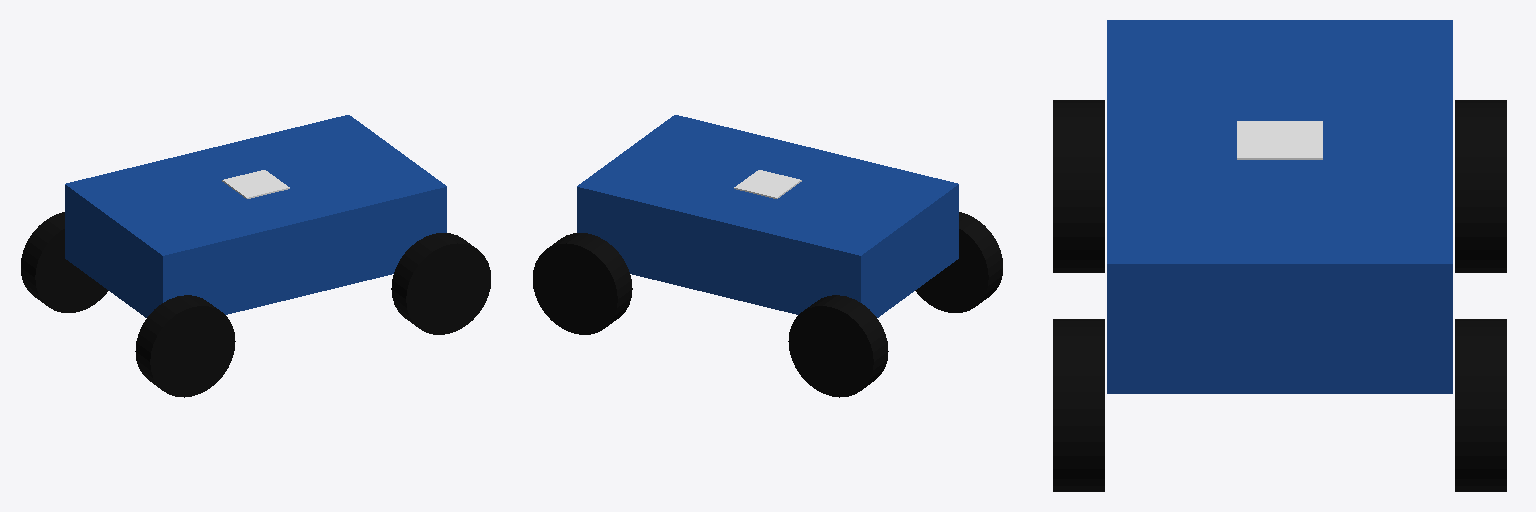
URDF robot description (ackermann_bot):
<?xml version="1.0"?>
<robot name="ackermann_bot">

  <!-- Base footprint at ground level -->
  <link name="base_footprint"/>

  <joint name="base_footprint_joint" type="fixed">
    <parent link="base_footprint"/>
    <child link="base_link"/>
    <origin xyz="0 0 0.32" rpy="0 0 0"/>
  </joint>

  <!-- Chassis Base Link -->
  <link name="base_link">
    <inertial>
      <origin xyz="0 0 0" rpy="0 0 0"/>
      <mass value="20.0"/>
      <inertia ixx="0.5208" ixy="0.0" ixz="0.0"
               iyy="1.7708" iyz="0.0"
               izz="2.0833"/>
    </inertial>
    <visual>
      <origin xyz="0 0 0" rpy="0 0 0"/>
      <geometry>
        <box size="1.0 0.6 0.25"/>
      </geometry>
      <material name="chassis_blue">
        <color rgba="0.15 0.35 0.65 1.0"/>
      </material>
    </visual>
    <collision>
      <origin xyz="0 0 0" rpy="0 0 0"/>
      <geometry>
        <box size="1.0 0.6 0.25"/>
      </geometry>
    </collision>
  </link>

  <!-- Wheels Materials -->
  <material name="wheel_dark_grey">
    <color rgba="0.1 0.1 0.1 1.0"/>
  </material>

  <material name="marker_white">
    <color rgba="0.95 0.95 0.95 1.0"/>
  </material>

  <!-- Front Left Wheel -->
  <link name="front_left_wheel">
    <inertial>
      <origin xyz="0 0 0" rpy="0 0 0"/>
      <mass value="1.5"/>
      <inertia ixx="0.00945" ixy="0.0" ixz="0.0"
               iyy="0.0169" iyz="0.0"
               izz="0.00945"/>
    </inertial>
    <visual>
      <origin xyz="0 0 0" rpy="1.57079632679 0 0"/>
      <geometry>
        <cylinder radius="0.15" length="0.09"/>
      </geometry>
      <material name="wheel_dark_grey"/>
    </visual>
    <collision>
      <origin xyz="0 0 0" rpy="1.57079632679 0 0"/>
      <geometry>
        <cylinder radius="0.15" length="0.09"/>
      </geometry>
    </collision>
  </link>

  <joint name="front_left_wheel_joint" type="continuous">
    <parent link="base_link"/>
    <child link="front_left_wheel"/>
    <origin xyz="0.45 0.35 -0.17" rpy="0 0 0"/>
    <axis xyz="0 1 0"/>
    <dynamics damping="0.1" friction="0.0"/>
  </joint>

  <!-- Front Right Wheel -->
  <link name="front_right_wheel">
    <inertial>
      <origin xyz="0 0 0" rpy="0 0 0"/>
      <mass value="1.5"/>
      <inertia ixx="0.00945" ixy="0.0" ixz="0.0"
               iyy="0.0169" iyz="0.0"
               izz="0.00945"/>
    </inertial>
    <visual>
      <origin xyz="0 0 0" rpy="1.57079632679 0 0"/>
      <geometry>
        <cylinder radius="0.15" length="0.09"/>
      </geometry>
      <material name="wheel_dark_grey"/>
    </visual>
    <collision>
      <origin xyz="0 0 0" rpy="1.57079632679 0 0"/>
      <geometry>
        <cylinder radius="0.15" length="0.09"/>
      </geometry>
    </collision>
  </link>

  <joint name="front_right_wheel_joint" type="continuous">
    <parent link="base_link"/>
    <child link="front_right_wheel"/>
    <origin xyz="0.45 -0.35 -0.17" rpy="0 0 0"/>
    <axis xyz="0 1 0"/>
    <dynamics damping="0.1" friction="0.0"/>
  </joint>

  <!-- Rear Left Wheel -->
  <link name="rear_left_wheel">
    <inertial>
      <origin xyz="0 0 0" rpy="0 0 0"/>
      <mass value="1.5"/>
      <inertia ixx="0.00945" ixy="0.0" ixz="0.0"
               iyy="0.0169" iyz="0.0"
               izz="0.00945"/>
    </inertial>
    <visual>
      <origin xyz="0 0 0" rpy="1.57079632679 0 0"/>
      <geometry>
        <cylinder radius="0.15" length="0.09"/>
      </geometry>
      <material name="wheel_dark_grey"/>
    </visual>
    <collision>
      <origin xyz="0 0 0" rpy="1.57079632679 0 0"/>
      <geometry>
        <cylinder radius="0.15" length="0.09"/>
      </geometry>
    </collision>
  </link>

  <joint name="rear_left_wheel_joint" type="continuous">
    <parent link="base_link"/>
    <child link="rear_left_wheel"/>
    <origin xyz="-0.45 0.35 -0.17" rpy="0 0 0"/>
    <axis xyz="0 1 0"/>
    <dynamics damping="0.1" friction="0.0"/>
  </joint>

  <!-- Rear Right Wheel -->
  <link name="rear_right_wheel">
    <inertial>
      <origin xyz="0 0 0" rpy="0 0 0"/>
      <mass value="1.5"/>
      <inertia ixx="0.00945" ixy="0.0" ixz="0.0"
               iyy="0.0169" iyz="0.0"
               izz="0.00945"/>
    </inertial>
    <visual>
      <origin xyz="0 0 0" rpy="1.57079632679 0 0"/>
      <geometry>
        <cylinder radius="0.15" length="0.09"/>
      </geometry>
      <material name="wheel_dark_grey"/>
    </visual>
    <collision>
      <origin xyz="0 0 0" rpy="1.57079632679 0 0"/>
      <geometry>
        <cylinder radius="0.15" length="0.09"/>
      </geometry>
    </collision>
  </link>

  <joint name="rear_right_wheel_joint" type="continuous">
    <parent link="base_link"/>
    <child link="rear_right_wheel"/>
    <origin xyz="-0.45 -0.35 -0.17" rpy="0 0 0"/>
    <axis xyz="0 1 0"/>
    <dynamics damping="0.1" friction="0.0"/>
  </joint>

  <!-- ArUco Marker Plate on Roof (DICT_4X4_50, ID 0) -->
  <link name="aruco_marker_link">
    <inertial>
      <origin xyz="0 0 0" rpy="0 0 0"/>
      <mass value="0.05"/>
      <inertia ixx="0.0001" ixy="0.0" ixz="0.0"
               iyy="0.0001" iyz="0.0"
               izz="0.0001"/>
    </inertial>
    <visual>
      <origin xyz="0 0 0" rpy="0 0 0"/>
      <geometry>
        <box size="0.15 0.15 0.005"/>
      </geometry>
      <material name="marker_white"/>
    </visual>
    <collision>
      <origin xyz="0 0 0" rpy="0 0 0"/>
      <geometry>
        <box size="0.15 0.15 0.005"/>
      </geometry>
    </collision>
  </link>

  <joint name="aruco_marker_joint" type="fixed">
    <parent link="base_link"/>
    <child link="aruco_marker_link"/>
    <origin xyz="0 0 0.1275" rpy="0 0 0"/>
  </joint>

</robot>

--- Facts derived from the render (not from the file) ---
The picture shows the robot from 3 angles, left to right: view 1: azimuth 30°, elevation 25°; view 2: azimuth 150°, elevation 25°; view 3: azimuth 270°, elevation 25°; orthographic projection.
Model ackermann_bot with 7 links and 6 joints (4 continuous, 2 fixed), rooted at base_footprint, posed every joint at zero.
Visible links, largest first — view 1: base_link, front_right_wheel, rear_right_wheel, rear_left_wheel, aruco_marker_link; view 2: base_link, front_left_wheel, rear_left_wheel, rear_right_wheel, aruco_marker_link; view 3: base_link, front_left_wheel, front_right_wheel, rear_left_wheel, rear_right_wheel, aruco_marker_link.
Boxes of the visible links, x1=… form: base_link: x1=65, y1=115, x2=446, y2=317; front_right_wheel: x1=391, y1=233, x2=490, y2=334; rear_right_wheel: x1=135, y1=295, x2=235, y2=397; rear_left_wheel: x1=21, y1=212, x2=108, y2=312; aruco_marker_link: x1=222, y1=170, x2=289, y2=198; base_link: x1=577, y1=115, x2=958, y2=317; front_left_wheel: x1=533, y1=233, x2=632, y2=334; rear_left_wheel: x1=788, y1=295, x2=888, y2=397; rear_right_wheel: x1=915, y1=212, x2=1002, y2=312; aruco_marker_link: x1=734, y1=170, x2=801, y2=198; base_link: x1=1107, y1=20, x2=1452, y2=393; front_left_wheel: x1=1455, y1=319, x2=1506, y2=491; front_right_wheel: x1=1053, y1=319, x2=1104, y2=491; rear_left_wheel: x1=1455, y1=100, x2=1506, y2=272; rear_right_wheel: x1=1053, y1=100, x2=1104, y2=272; aruco_marker_link: x1=1237, y1=121, x2=1322, y2=159.
Bounding box of the posed robot: 1.2 × 0.79 × 0.45 m (x, y, z).
Geometry: primitives only (box / cylinder / sphere), no mesh files.
